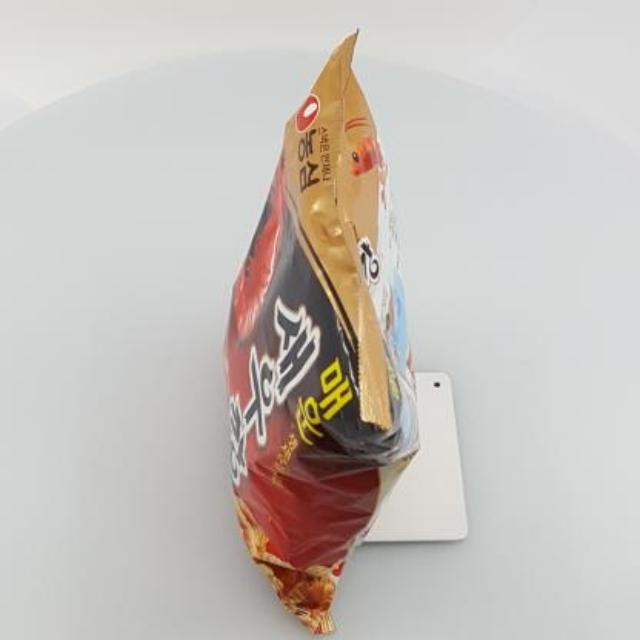snack_bag: (210, 22, 430, 640)
